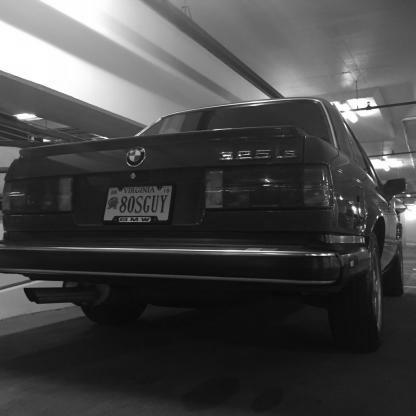car: (4, 68, 414, 374)
